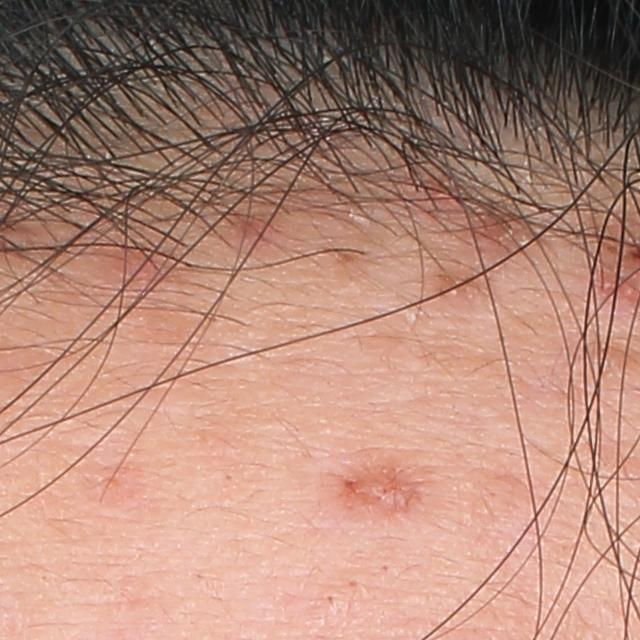comedo: (345, 575, 365, 594), (320, 591, 338, 608)
